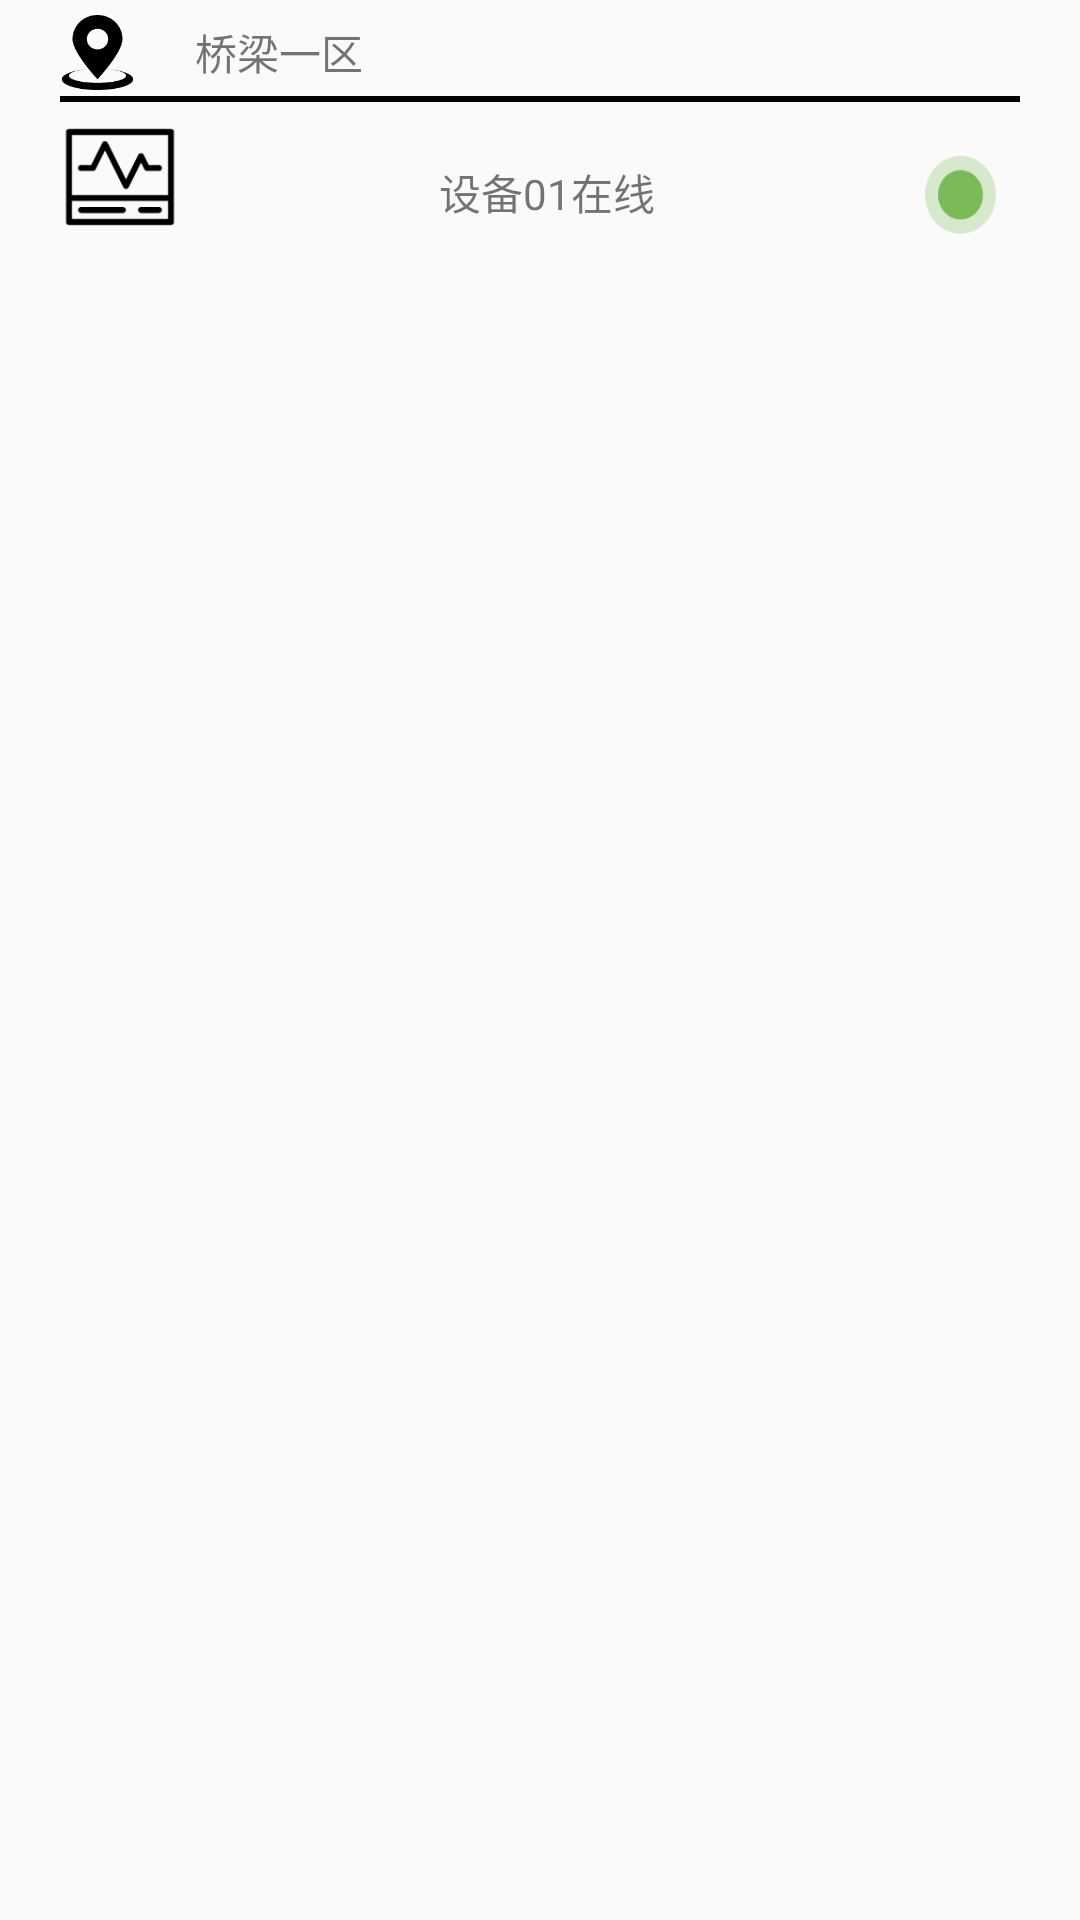

Screen size 1080px×1920px. Icon name, then its center in pixels as point (x, y):
location: point (97, 52)
shebei: point (120, 177)
